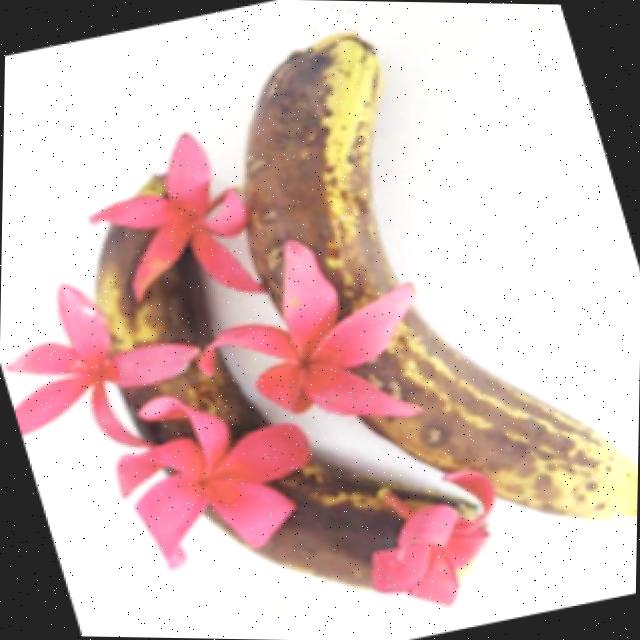rotten banana: (216, 23, 640, 555), (58, 154, 475, 622)
